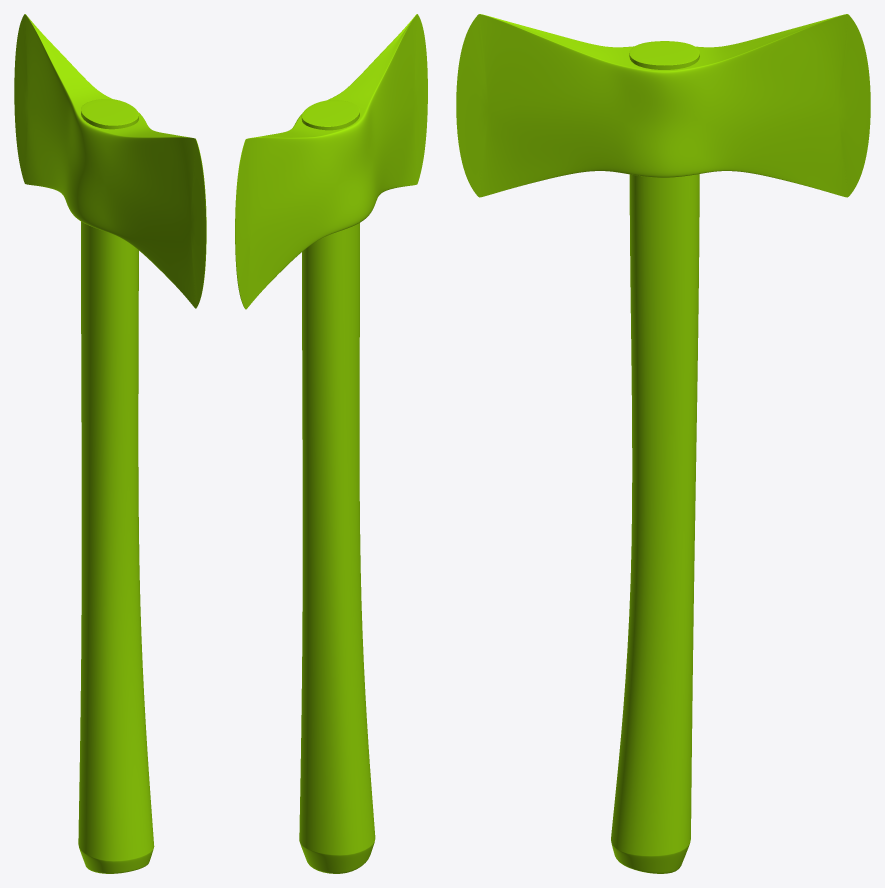
3 views of the same model, side by side, from view 1: azimuth 30°, elevation 25°; view 2: azimuth 150°, elevation 25°; view 3: azimuth 270°, elevation 25° (orthographic). The views are drawn at different scales.
Visible parts, largest first — view 1: Cable, Iron; view 2: Cable, Iron; view 3: Iron, Cable.
Boxes of the visible parts, x1=… form: Cable: x1=78, y1=99, x2=154, y2=873; Iron: x1=14, y1=14, x2=206, y2=308; Cable: x1=299, y1=100, x2=375, y2=873; Iron: x1=235, y1=14, x2=427, y2=309; Iron: x1=456, y1=14, x2=870, y2=197; Cable: x1=611, y1=41, x2=699, y2=873.
Bounding box in the file's own units: 0.7414 × 8.36 × 3.69.
